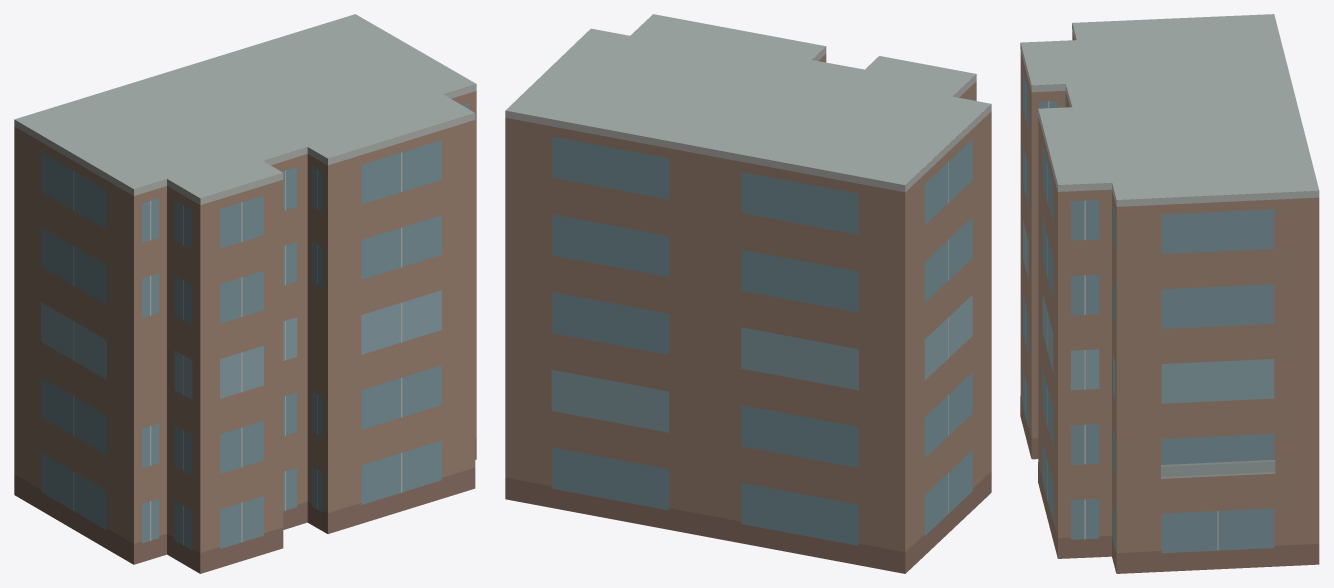
File: survey-upis-32664224.glb
The picture shows the model from 3 angles, left to right: view 1: azimuth 30°, elevation 25°; view 2: azimuth 150°, elevation 25°; view 3: azimuth 270°, elevation 25°; orthographic projection. The views are drawn at different scales.
Parts seen in each view (by area): view 1: survey-upis-32664224.tmp; view 2: survey-upis-32664224.tmp; view 3: survey-upis-32664224.tmp.
Boxes of the visible parts, x1,y1,x2,y2 form: survey-upis-32664224.tmp: (14, 14, 476, 573); survey-upis-32664224.tmp: (505, 14, 991, 573); survey-upis-32664224.tmp: (1020, 14, 1319, 573).
Bounding box in the file's own units: 14.21 × 13.3 × 9.65.
